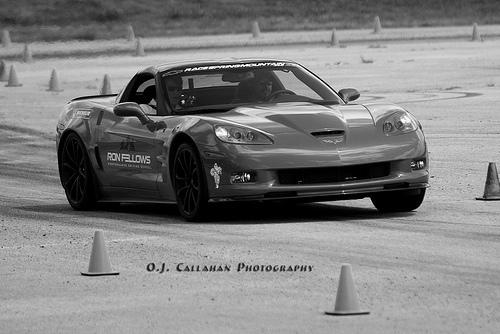car: (55, 59, 431, 220)
